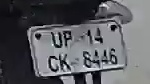1: (85, 28, 94, 46)
4: (93, 26, 105, 47), (92, 49, 101, 69), (100, 51, 110, 65)
6: (108, 47, 119, 66)
8: (81, 49, 92, 70)
C: (46, 54, 60, 73)
K: (56, 52, 75, 72)
P: (61, 29, 74, 47)
U: (51, 31, 63, 49)
